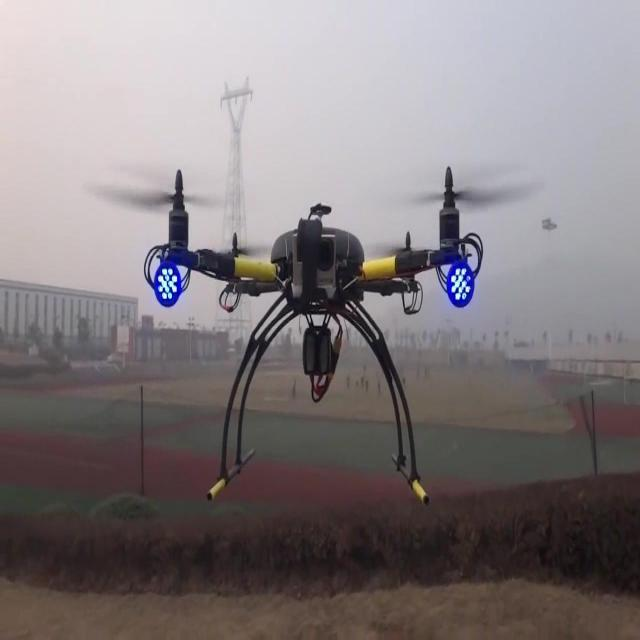drone: (142, 164, 486, 508)
